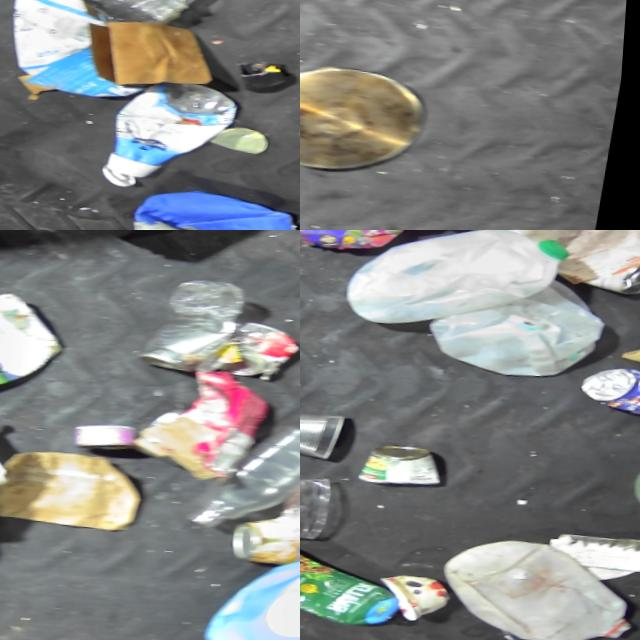can: (135, 312, 244, 381), (218, 320, 300, 384), (358, 441, 454, 494), (228, 509, 300, 575), (574, 364, 640, 432), (300, 406, 352, 465), (585, 251, 640, 305), (72, 421, 145, 458), (213, 124, 280, 160)
milk_jug: (339, 230, 574, 344), (419, 267, 616, 391), (433, 530, 640, 640)
non_white_jug: (197, 543, 300, 640), (130, 181, 300, 230)
plastic_bottle: (184, 416, 300, 544)
